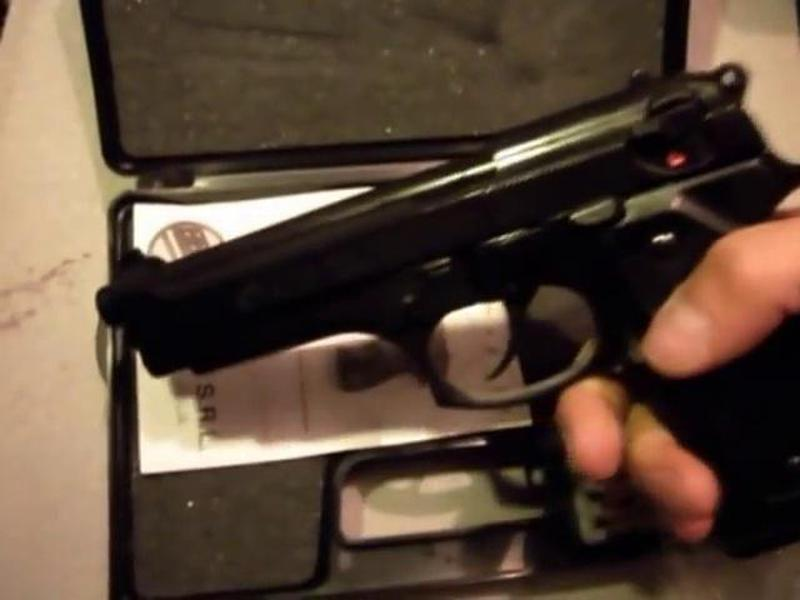Pistola: (94, 76, 800, 542)
